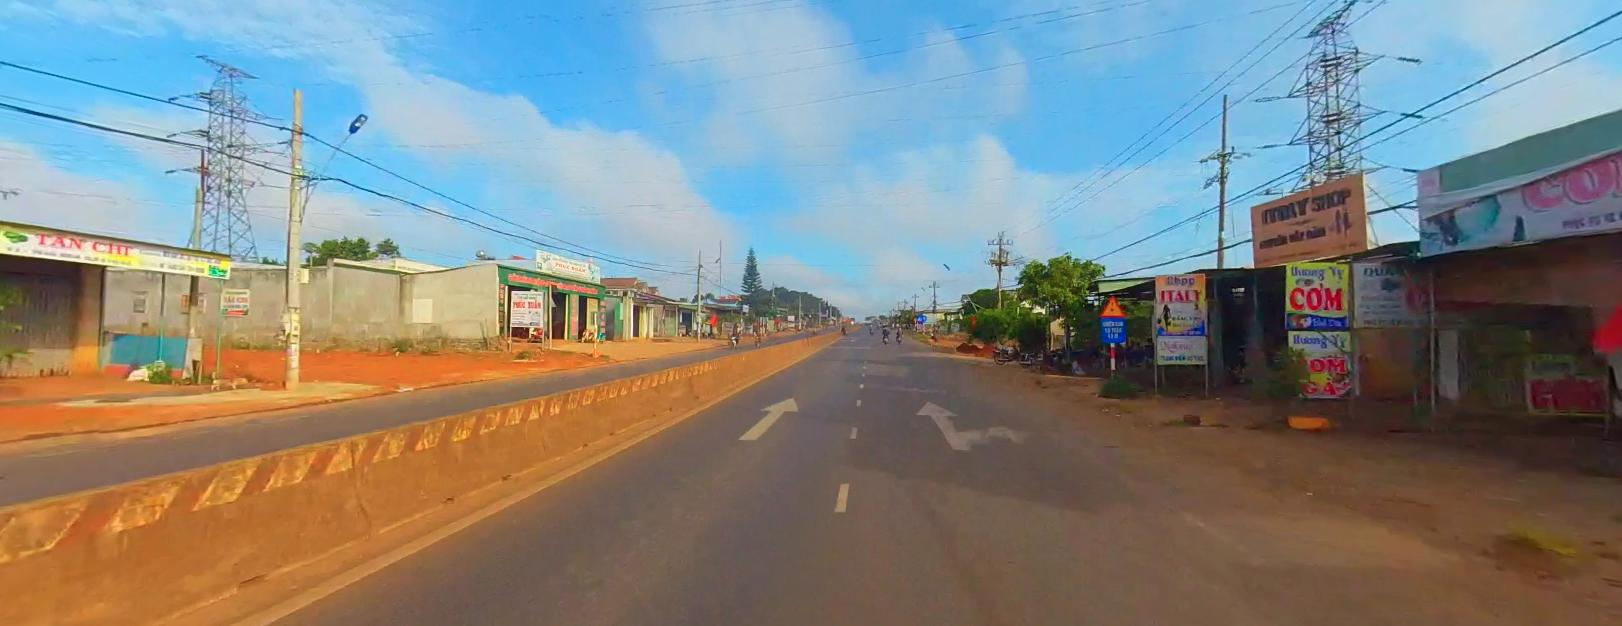Nguy hiem: (1098, 293, 1127, 315)
